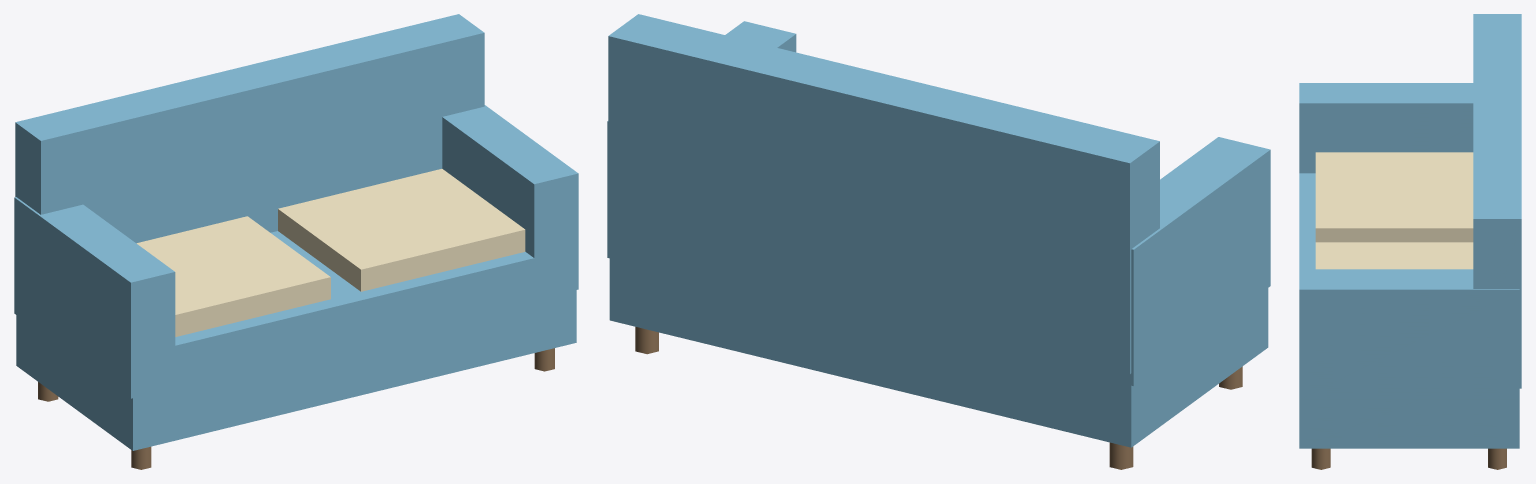
The model's file is sofa.glb.
3 views of the same model, side by side, from view 1: azimuth 30°, elevation 25°; view 2: azimuth 150°, elevation 25°; view 3: azimuth 270°, elevation 25° (orthographic). The views are drawn at different scales.
Parts seen in each view (by area): view 1: root; view 2: root; view 3: root.
Part boxes in pixels (left/top/right/bottom): root: left=14, top=14, right=578, bottom=469; root: left=607, top=14, right=1270, bottom=469; root: left=1299, top=14, right=1521, bottom=469.
Bounding box in the file's own units: 2.22 × 1.28 × 1.01.
